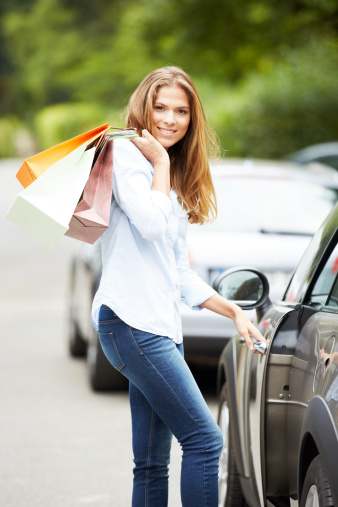em pe: (68, 67, 265, 507)
